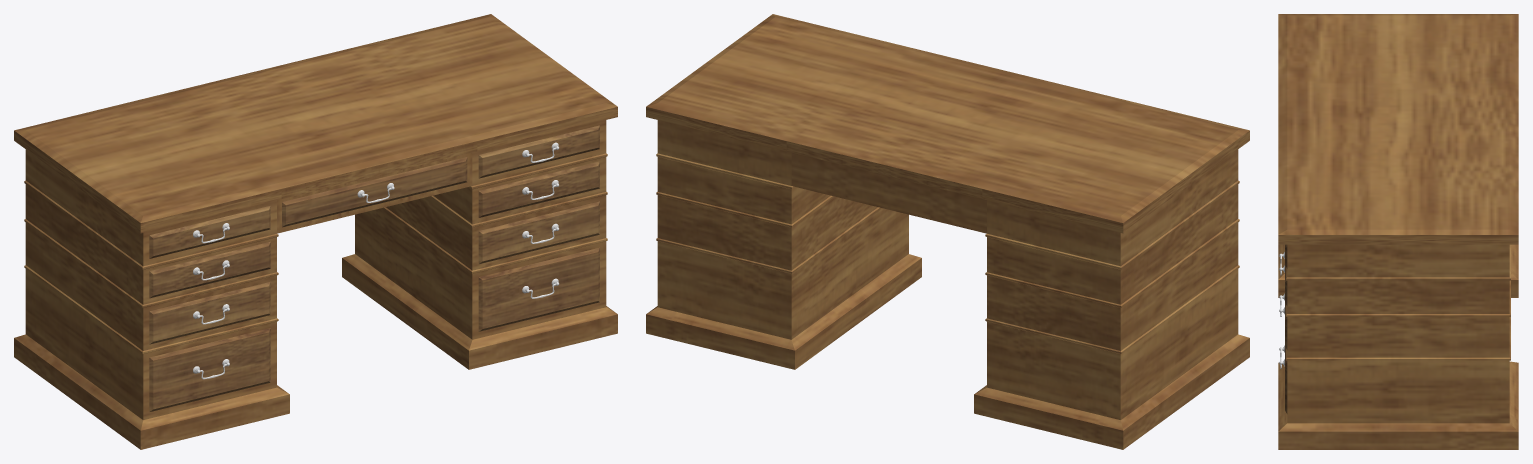
Rendered from OldDesk.fbx.
3 views of the same model, side by side, from view 1: azimuth 30°, elevation 25°; view 2: azimuth 150°, elevation 25°; view 3: azimuth 270°, elevation 25° (orthographic). The views are drawn at different scales.
Parts seen in each view (by area): view 1: Desk, Sphere.001, Sphere.009, Sphere.002, Sphere.005, Sphere.008, Sphere.004, Sphere.007, Sphere.003, Sphere.006; view 2: Desk; view 3: Desk, Sphere.001.
Part boxes in pixels (box(x1,y1,x2,y2)): Desk: box(14, 14, 617, 449); Sphere.001: box(478, 247, 599, 331); Sphere.009: box(149, 328, 270, 411); Sphere.002: box(282, 157, 467, 227); Sphere.005: box(478, 201, 599, 263); Sphere.008: box(149, 282, 270, 344); Sphere.004: box(478, 161, 599, 217); Sphere.007: box(149, 241, 270, 298); Sphere.003: box(478, 125, 599, 178); Sphere.006: box(149, 206, 270, 258); Desk: box(646, 14, 1249, 449); Desk: box(1278, 14, 1518, 449); Sphere.001: box(1279, 345, 1287, 413).
Bounding box in the file's own units: 78.53 × 35.98 × 36.14.
